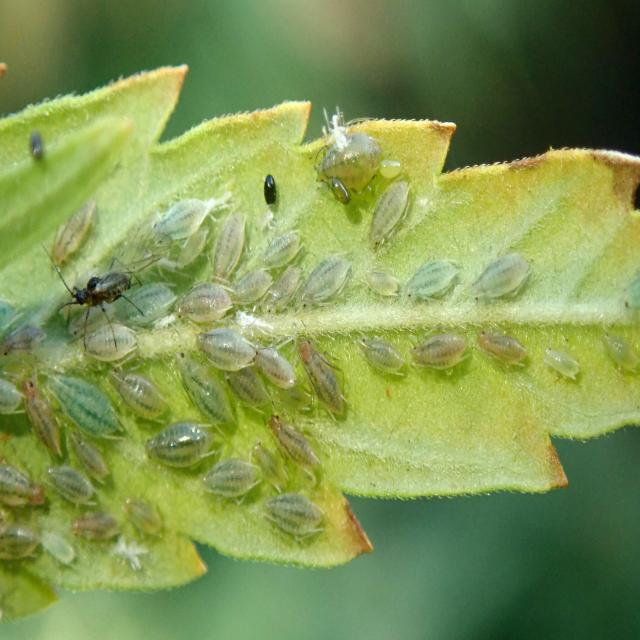Aphid-Grouped-: (10, 164, 557, 512)
Aphid-Grown-: (45, 357, 128, 448), (264, 404, 336, 483), (101, 352, 174, 427), (288, 325, 346, 418), (138, 408, 222, 472), (401, 310, 471, 386), (166, 345, 232, 421), (166, 267, 244, 330), (260, 483, 332, 548), (468, 240, 536, 308), (362, 174, 420, 252), (314, 124, 381, 191), (186, 325, 264, 382), (48, 194, 105, 271), (186, 444, 261, 502), (390, 244, 458, 306), (473, 317, 532, 386), (352, 319, 408, 386), (206, 209, 255, 281), (216, 356, 276, 412), (76, 318, 147, 364), (149, 197, 217, 244), (116, 279, 178, 330), (117, 490, 176, 543), (44, 454, 101, 508), (256, 258, 309, 316), (251, 222, 310, 272), (302, 252, 351, 308), (254, 337, 302, 392), (223, 262, 274, 304), (358, 268, 404, 308)
